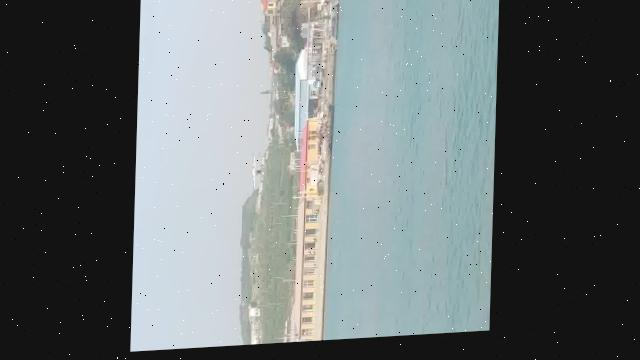drone: (242, 153, 270, 199)
